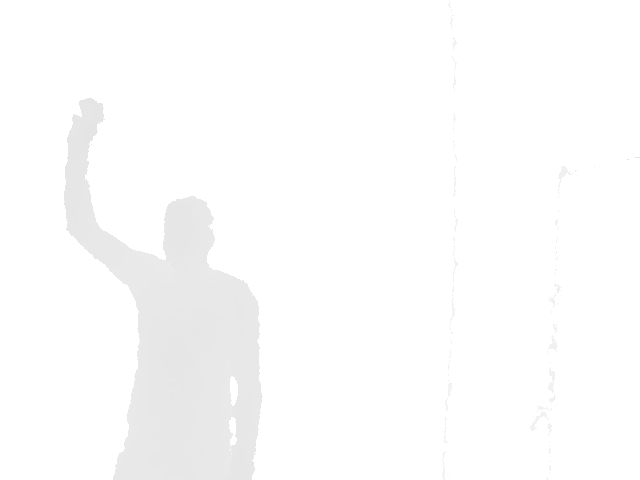hand: (66, 96, 105, 145)
head: (163, 196, 214, 278)
person: (62, 96, 264, 480)
